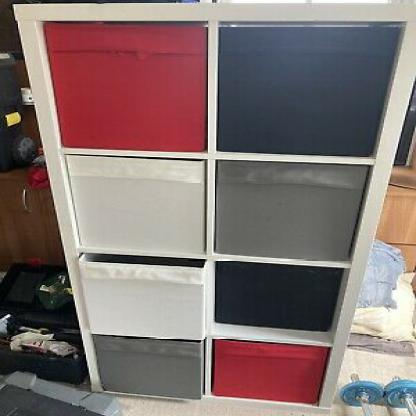lamp: (11, 2, 415, 415)
